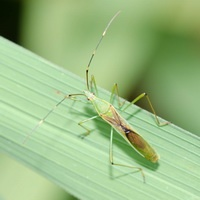insect: (24, 8, 42, 51)
